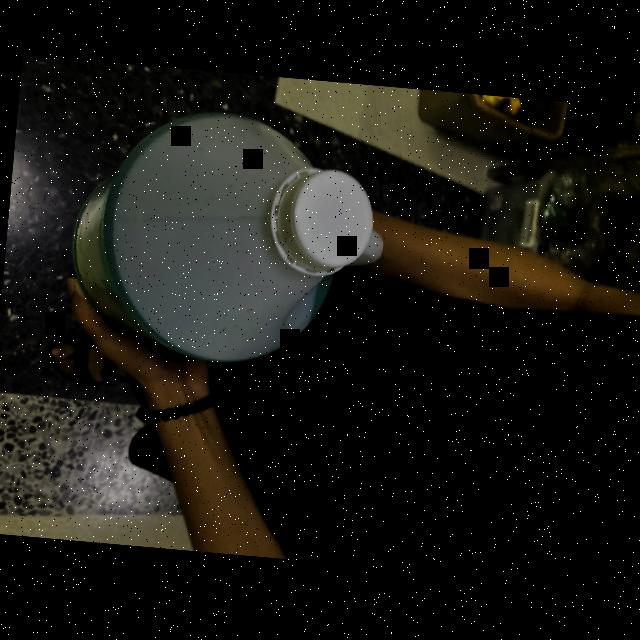chemical_plastic_gallon: (63, 99, 399, 373)
